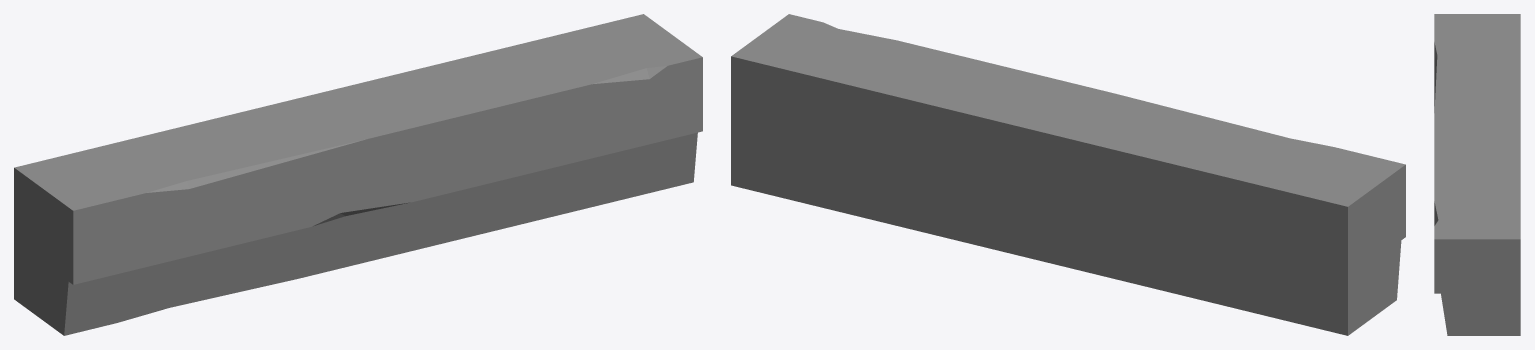
File: SW_ENV_ConcreteLedge_2m.fbx
The picture shows the model from 3 angles, left to right: view 1: azimuth 30°, elevation 25°; view 2: azimuth 150°, elevation 25°; view 3: azimuth 270°, elevation 25°; orthographic projection. The views are drawn at different scales.
Parts seen in each view (by area): view 1: SW_ENV_ConcreteLedge_2m; view 2: SW_ENV_ConcreteLedge_2m; view 3: SW_ENV_ConcreteLedge_2m.
Part boxes in pixels (x1,y1,x2,y2): SW_ENV_ConcreteLedge_2m: [14, 14, 702, 335]; SW_ENV_ConcreteLedge_2m: [731, 14, 1405, 335]; SW_ENV_ConcreteLedge_2m: [1434, 14, 1520, 335].
Bounding box in the file's own units: 200 × 40 × 32.5.
